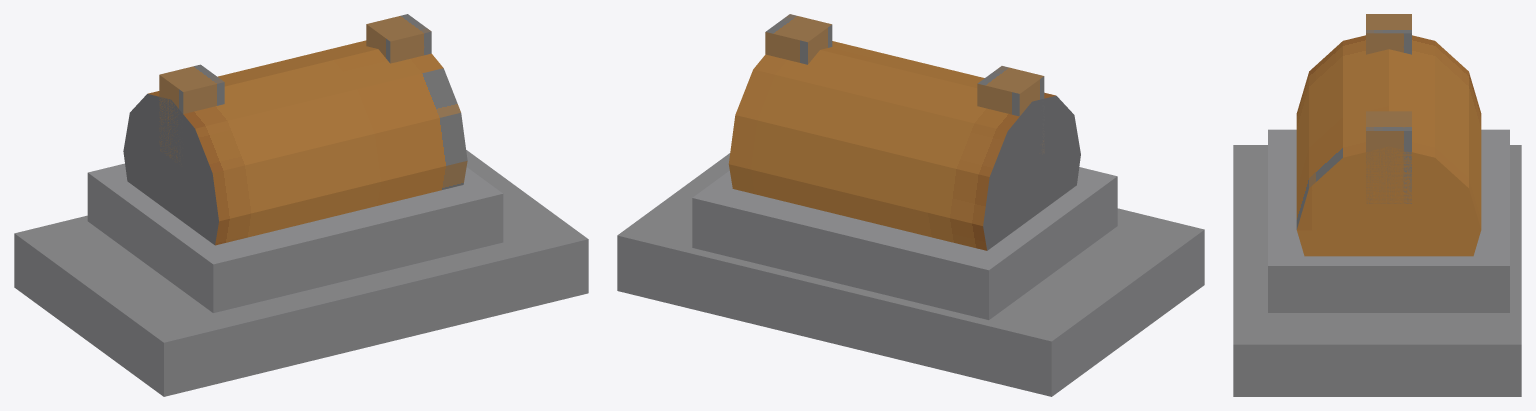
Rendered from Building_TrapIED_Incendiary.glb.
The picture shows the model from 3 angles, left to right: view 1: azimuth 30°, elevation 25°; view 2: azimuth 150°, elevation 25°; view 3: azimuth 270°, elevation 25°; orthographic projection. The views are drawn at different scales.
Parts seen in each view (by area): view 1: TrapIED_Incendiary; view 2: TrapIED_Incendiary; view 3: TrapIED_Incendiary.
Boxes of the visible parts, <box> form: TrapIED_Incendiary: <box>14,14,588,396</box>; TrapIED_Incendiary: <box>617,14,1204,396</box>; TrapIED_Incendiary: <box>1233,14,1521,396</box>.
Bounding box in the file's own units: 0.82 × 0.43 × 0.5.
1 material, 1 textured.
